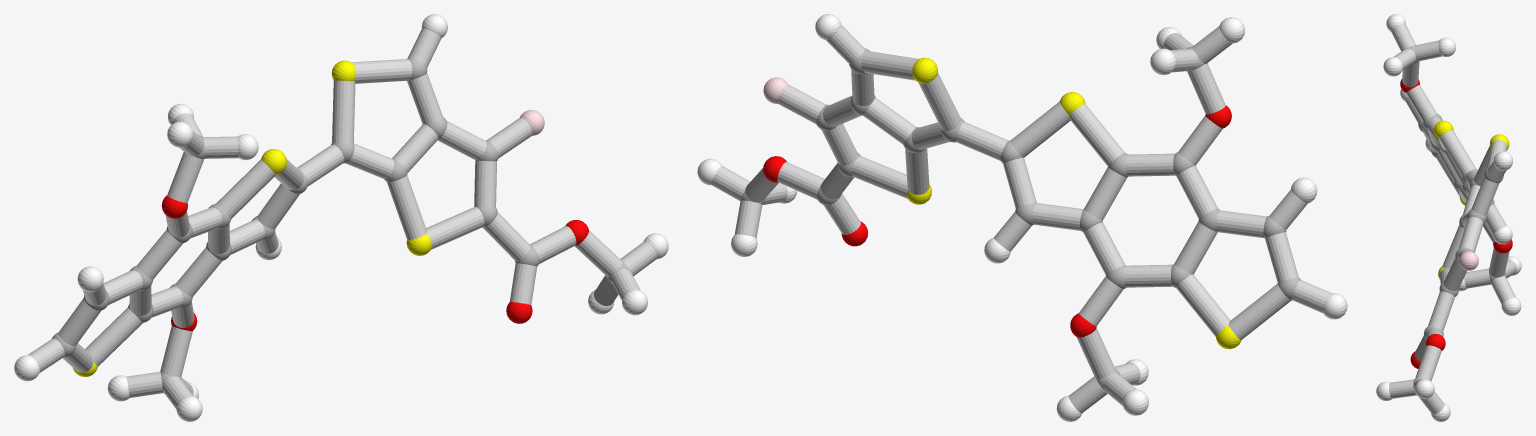
Rendered from Dimethoxy_Benzodithiophene_Phi_5_Theta_130_Methylcarbonyl_3_Fluoro_Thienothiophene.glb.
3 views of the same model, side by side, from view 1: azimuth 30°, elevation 25°; view 2: azimuth 150°, elevation 25°; view 3: azimuth 270°, elevation 25° (orthographic). The views are drawn at different scales.
Visible parts, largest first — view 1: grp15205, grp8689, grp1, grp7241, grp13395; view 2: grp15205, grp8689, grp1, grp7241, grp13395; view 3: grp15205, grp8689, grp1, grp13395, grp7241, grp14843.
Part boxes in pixels (box(x1,y1,x2,y2)): grp15205: box(28, 28, 657, 409); grp8689: box(14, 14, 668, 421); grp1: box(51, 58, 629, 393); grp7241: box(73, 60, 431, 376); grp13395: box(161, 195, 588, 331); grp15205: box(711, 25, 1331, 413); grp8689: box(697, 14, 1347, 421); grp1: box(740, 46, 1300, 388); grp7241: box(907, 57, 1241, 349); grp13395: box(763, 105, 1231, 337); grp15205: box(1389, 24, 1516, 414); grp8689: box(1376, 14, 1521, 421); grp1: box(1406, 45, 1505, 395); grp13395: box(1400, 78, 1512, 368); grp7241: box(1434, 120, 1509, 279); grp14843: box(1459, 251, 1478, 270).
Size of the model in its own units: 16.98 by 9.08 by 4.43.
